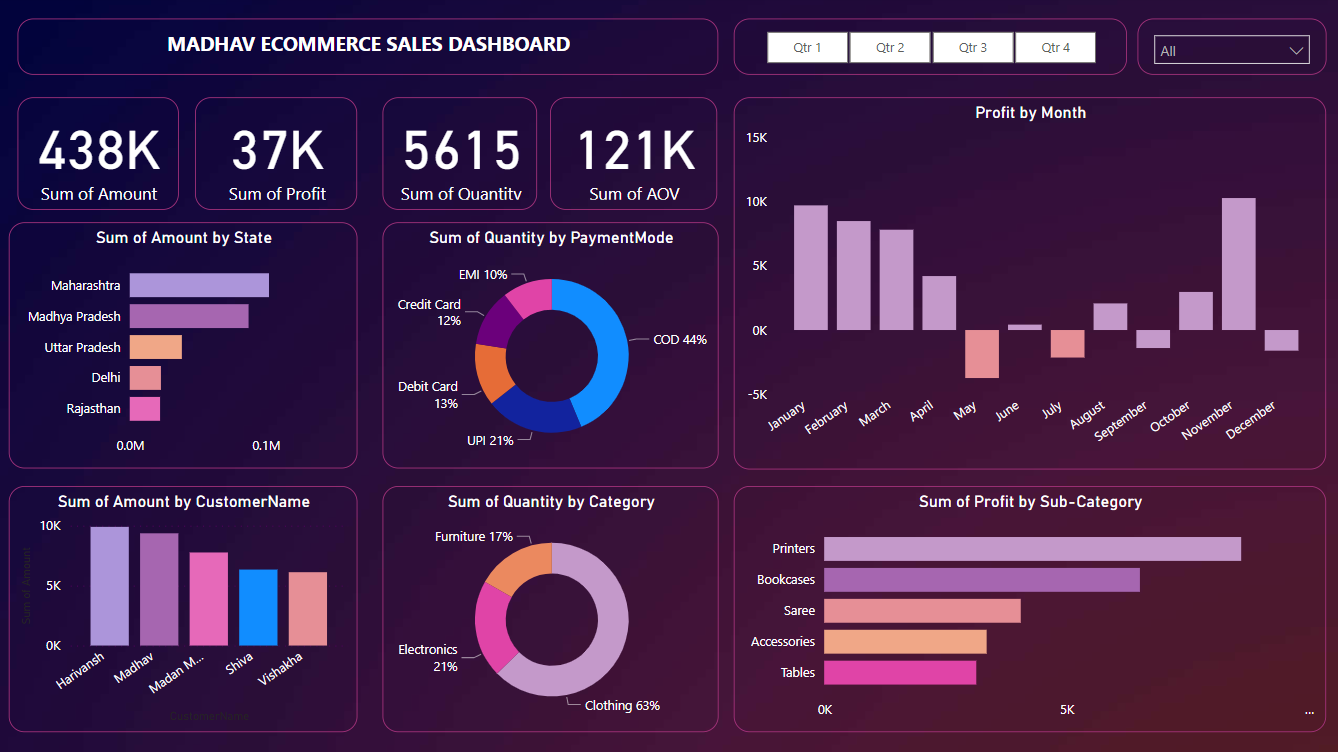

This screenshot's page, from the dashboard's own definition file:
{"tool":"powerbi","page":{"name":"Page 1","canvas":[1280,720],"ordinal":0},"visuals":[{"type":"textbox","box":[16.5,22,666.9,53.5],"z":0},{"type":"columnChart","title":"Profit by Month","fields":{"Category":["Orders.Order Date.Variation.Date Hierarchy.Month"],"Y":["Sum(Details.Profit)"]},"box":[698.5,96.1,564,354],"z":1},{"type":"barChart","fields":{"Category":["Details.Sub-Category"],"Y":["Sum(Details.Profit)"]},"box":[698.5,466.6,564,234.6],"z":2},{"type":"donutChart","fields":{"Category":["Details.Category"],"Y":["Sum(Details.Quantity)"]},"box":[364.2,466.5,320.1,234.4],"z":3},{"type":"donutChart","fields":{"Y":["Sum(Details.Quantity)"],"Category":["Details.PaymentMode"]},"box":[364.2,215.4,320.1,234.4],"z":4},{"type":"card","fields":{"Values":["Sum(Details.AOV)"]},"box":[524.2,96.1,159.2,107],"z":5},{"type":"card","fields":{"Values":["Sum(Details.Quantity)"]},"box":[364.2,96.4,147.6,107.1],"z":6},{"type":"card","fields":{"Values":["Sum(Details.Profit)"]},"box":[185.7,96.4,154.7,107.1],"z":7},{"type":"card","fields":{"Values":["Sum(Details.Amount)"]},"box":[16.7,96.4,153.5,107.1],"z":8},{"type":"barChart","fields":{"Category":["Orders.State"],"Y":["Sum(Details.Amount)"]},"box":[8.3,215.4,332,234.4],"z":9},{"type":"columnChart","fields":{"Y":["Sum(Details.Amount)"],"Category":["Orders.CustomerName"]},"box":[8.2,466.6,332.1,234.6],"z":10},{"type":"slicer","fields":{"Values":["Orders.Order Date.Variation.Date Hierarchy.Quarter"]},"box":[698.5,22,374.6,53.5],"z":11},{"type":"slicer","fields":{"Values":["Orders.State"]},"box":[1082.7,22,179.8,53.5],"z":12}]}

Visuals, with their boxes in screenshot pixels (x1, y1, x2, y2), scaled from the page's 1280x720 canvas onto the 1338x752 screenshot:
textbox: 17 23 714 79
"Profit by Month" columnChart: 730 100 1320 470
barChart - Details.Sub-Category x Sum(Details.Profit): 730 487 1320 732
donutChart - Details.Category x Sum(Details.Quantity): 381 487 715 732
donutChart - Sum(Details.Quantity) x Details.PaymentMode: 381 225 715 470
card - Sum(Details.AOV): 548 100 714 212
card - Sum(Details.Quantity): 381 101 535 213
card - Sum(Details.Profit): 194 101 356 213
card - Sum(Details.Amount): 17 101 178 213
barChart - Orders.State x Sum(Details.Amount): 9 225 356 470
columnChart - Sum(Details.Amount) x Orders.CustomerName: 9 487 356 732
slicer - Orders.Order Date.Variation.Date Hierarchy.Quarter: 730 23 1122 79
slicer - Orders.State: 1132 23 1320 79
